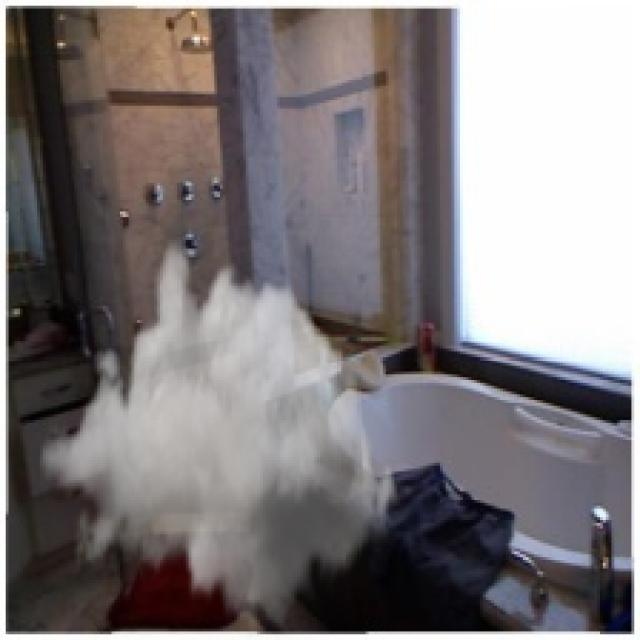smoke: (37, 234, 403, 637)
